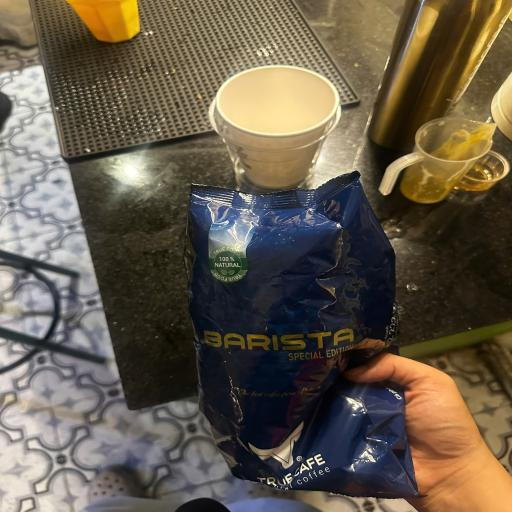cafe_hat: (185, 188, 435, 506)
